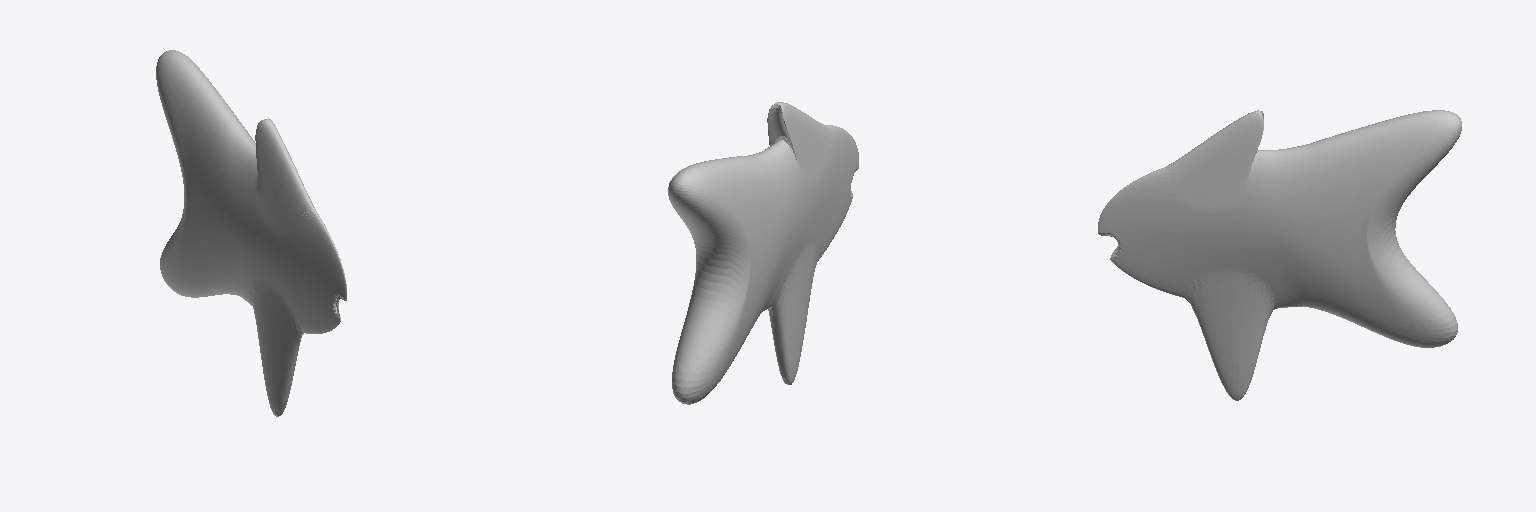
File: Fishy.obj
3 renders of one model, left to right at view 1: azimuth 30°, elevation 25°; view 2: azimuth 150°, elevation 25°; view 3: azimuth 270°, elevation 25°, orthographic.
Visible parts, largest first — view 1: ZBrush_defualt_group; view 2: ZBrush_defualt_group; view 3: ZBrush_defualt_group.
Boxes of the visible parts, <box> form: ZBrush_defualt_group: <box>156,50,346,416</box>; ZBrush_defualt_group: <box>668,102,858,404</box>; ZBrush_defualt_group: <box>1098,110,1461,400</box>.
Bounding box in the file's own units: 27.01 × 143 × 163.